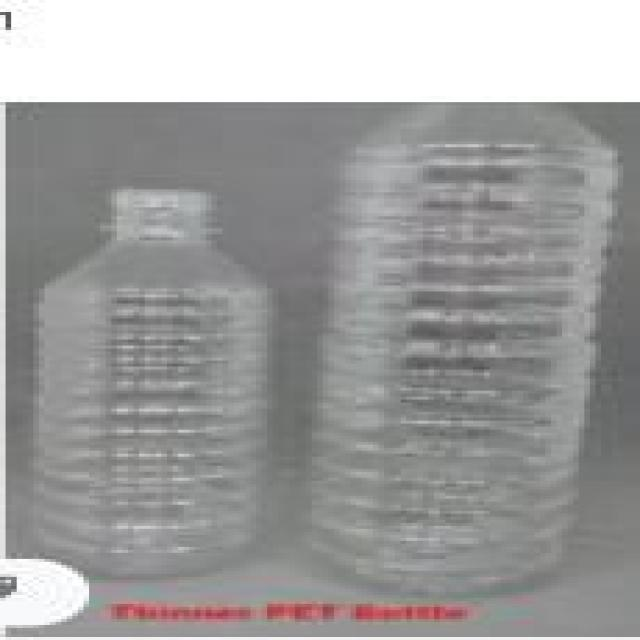bottle: (298, 115, 606, 628), (19, 163, 294, 639)
